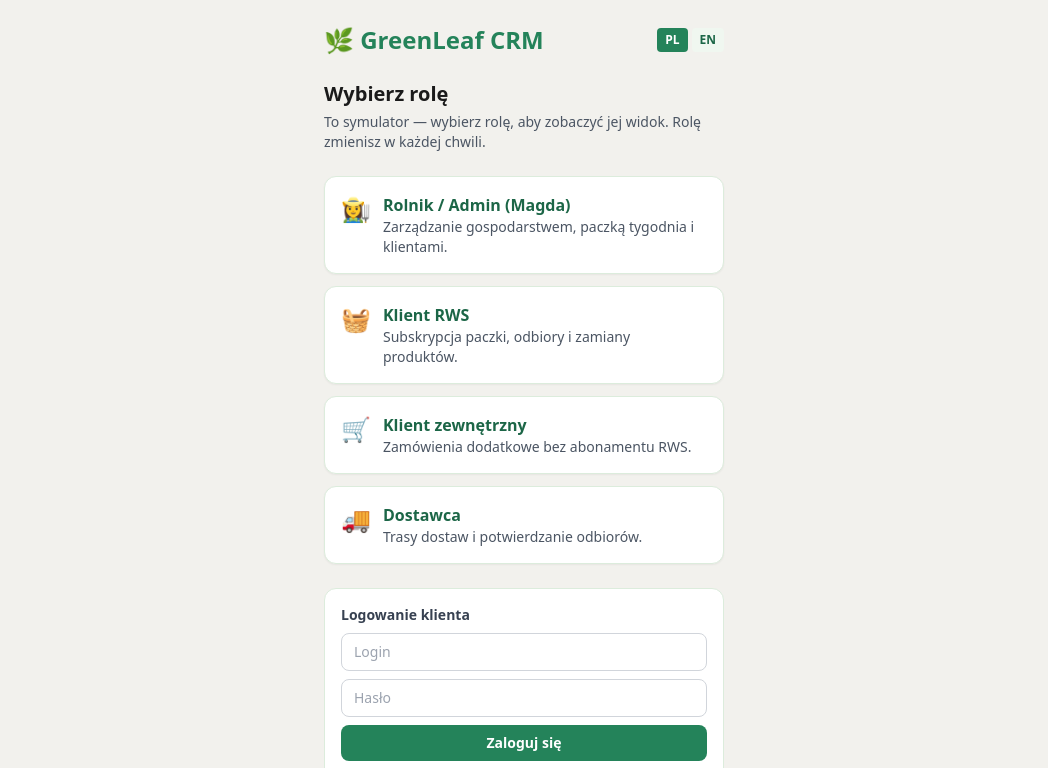
Test case: role: RolePicker + przełączanie shelli › klik "Klient RWS" ustawia rolę i renderuje ClientShell z bottom tab barem
The width and height of the screenshot is (1048, 768).
Click the button "Klient RWS". click: (524, 335)
box: [324, 286, 724, 384]
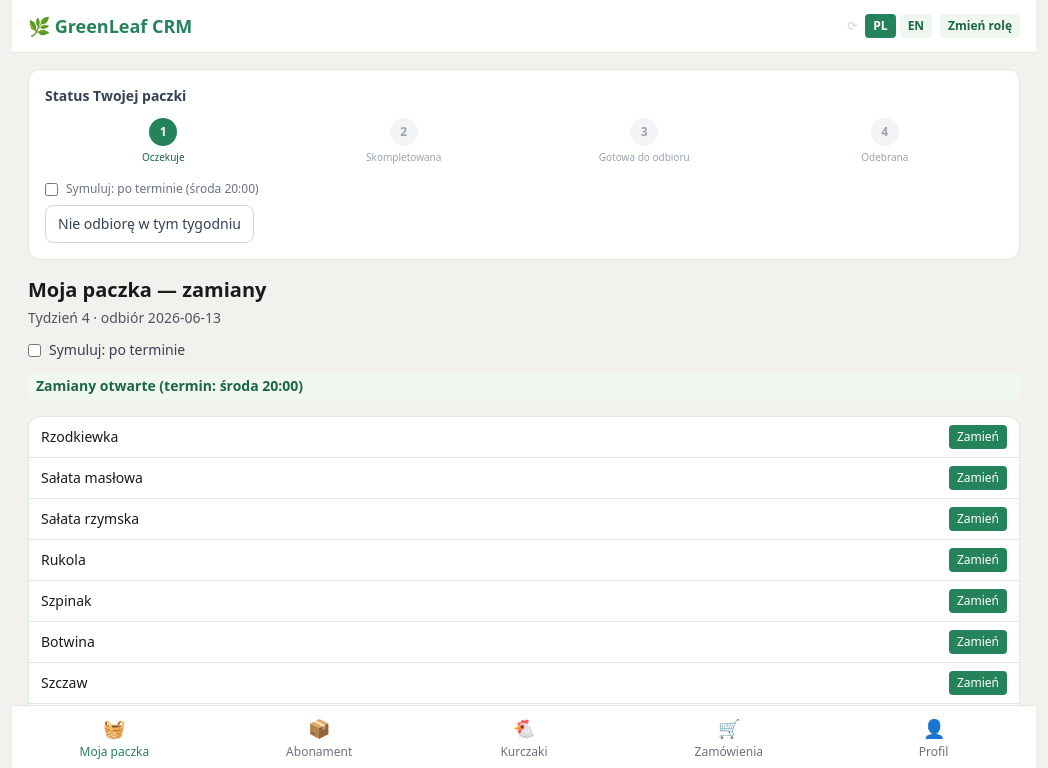
Expected: the button "🧺 Moja paczka" is shown, [12, 706, 217, 767]
Expected: the button "📦 Abonament" is shown, [217, 706, 422, 767]
Expected: the button "👤 Profil" is shown, [831, 706, 1036, 767]
